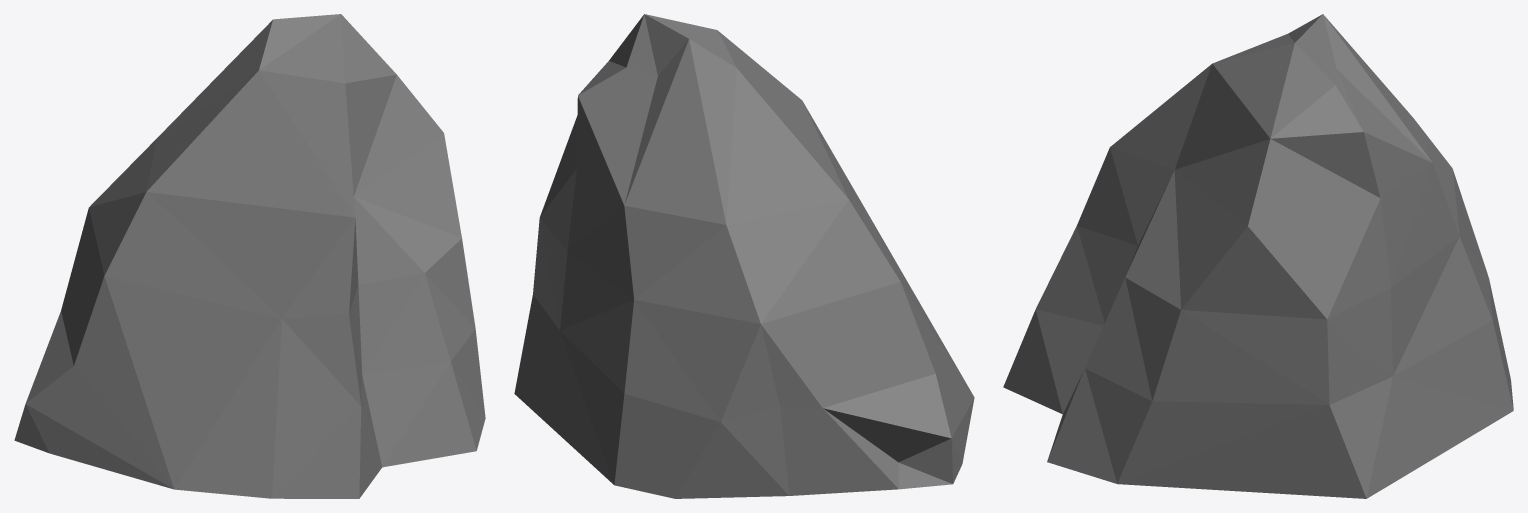
File: stone_2.obj
3 renders of one model, left to right at view 1: azimuth 30°, elevation 25°; view 2: azimuth 150°, elevation 25°; view 3: azimuth 270°, elevation 25°, orthographic. The views are drawn at different scales.
Visible parts, largest first — view 1: stone_2; view 2: stone_2; view 3: stone_2.
Boxes of the visible parts, left/top/right/bottom form: stone_2: left=14, top=14, right=485, bottom=498; stone_2: left=514, top=14, right=974, bottom=498; stone_2: left=1003, top=14, right=1513, bottom=498.
Bounding box in the file's own units: 1.18 × 1.01 × 1.15.
